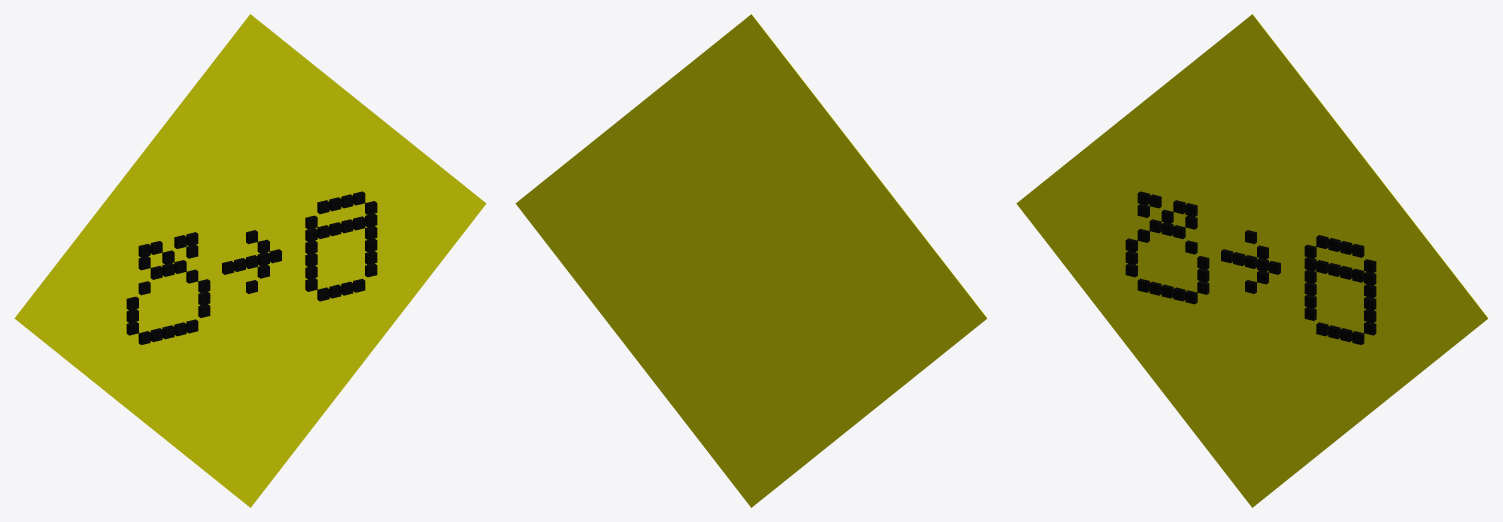
Rendered from MyStockToTrash.fbx.
3 renders of one model, left to right at view 1: azimuth 30°, elevation 25°; view 2: azimuth 150°, elevation 25°; view 3: azimuth 330°, elevation 25°, orthographic.
Visible parts, largest first — view 1: Cube.001; view 2: Cube.001; view 3: Cube.001.
Boxes of the visible parts, box(x1,y1,x2,y2) form: Cube.001: box(14, 14, 486, 507); Cube.001: box(515, 14, 987, 507); Cube.001: box(1016, 14, 1488, 507).
Size of the model in its own units: 198 by 198 by 2.1.
